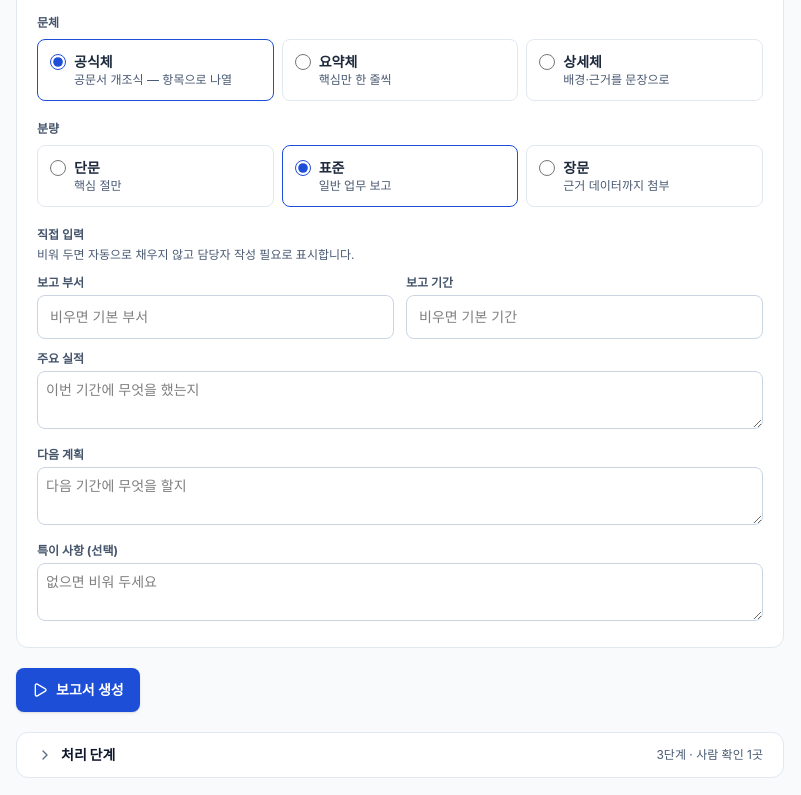
Test: ReportPage › 담당자가 작성해야 하는 칸을 드러낸다
The width and height of the screenshot is (801, 795).
(page scrolled)
Click the button "보고서 생성".
click(78, 690)  # box [16,668,140,712]
(page scrolled)
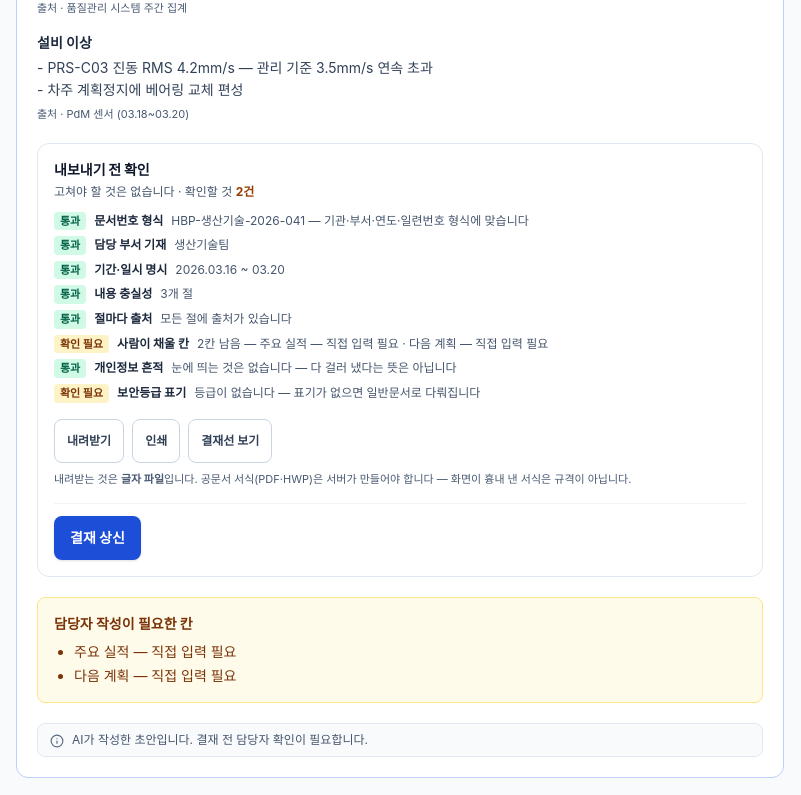
expect the heading "담당자 작성이 필요한 칸" is shown: met, box [54,615,193,632]
expect the list item "주요 실적 — 직접 입력 필요" is shown: met, box [74,643,236,660]
